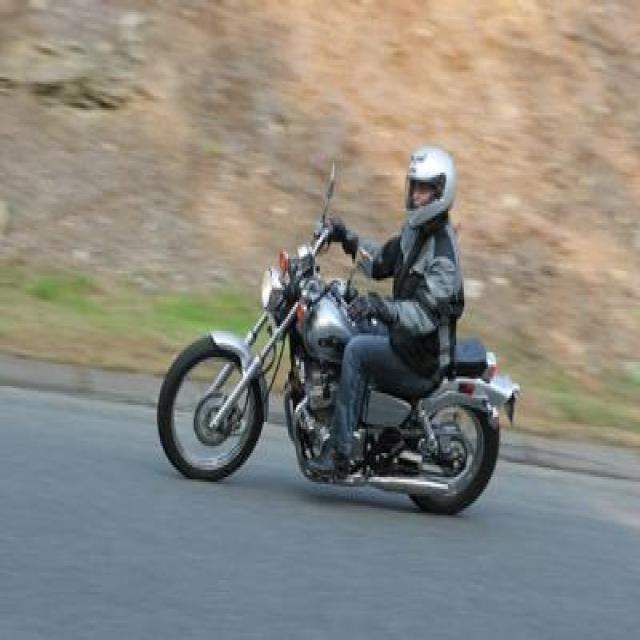Helmet: (403, 144, 462, 220)
